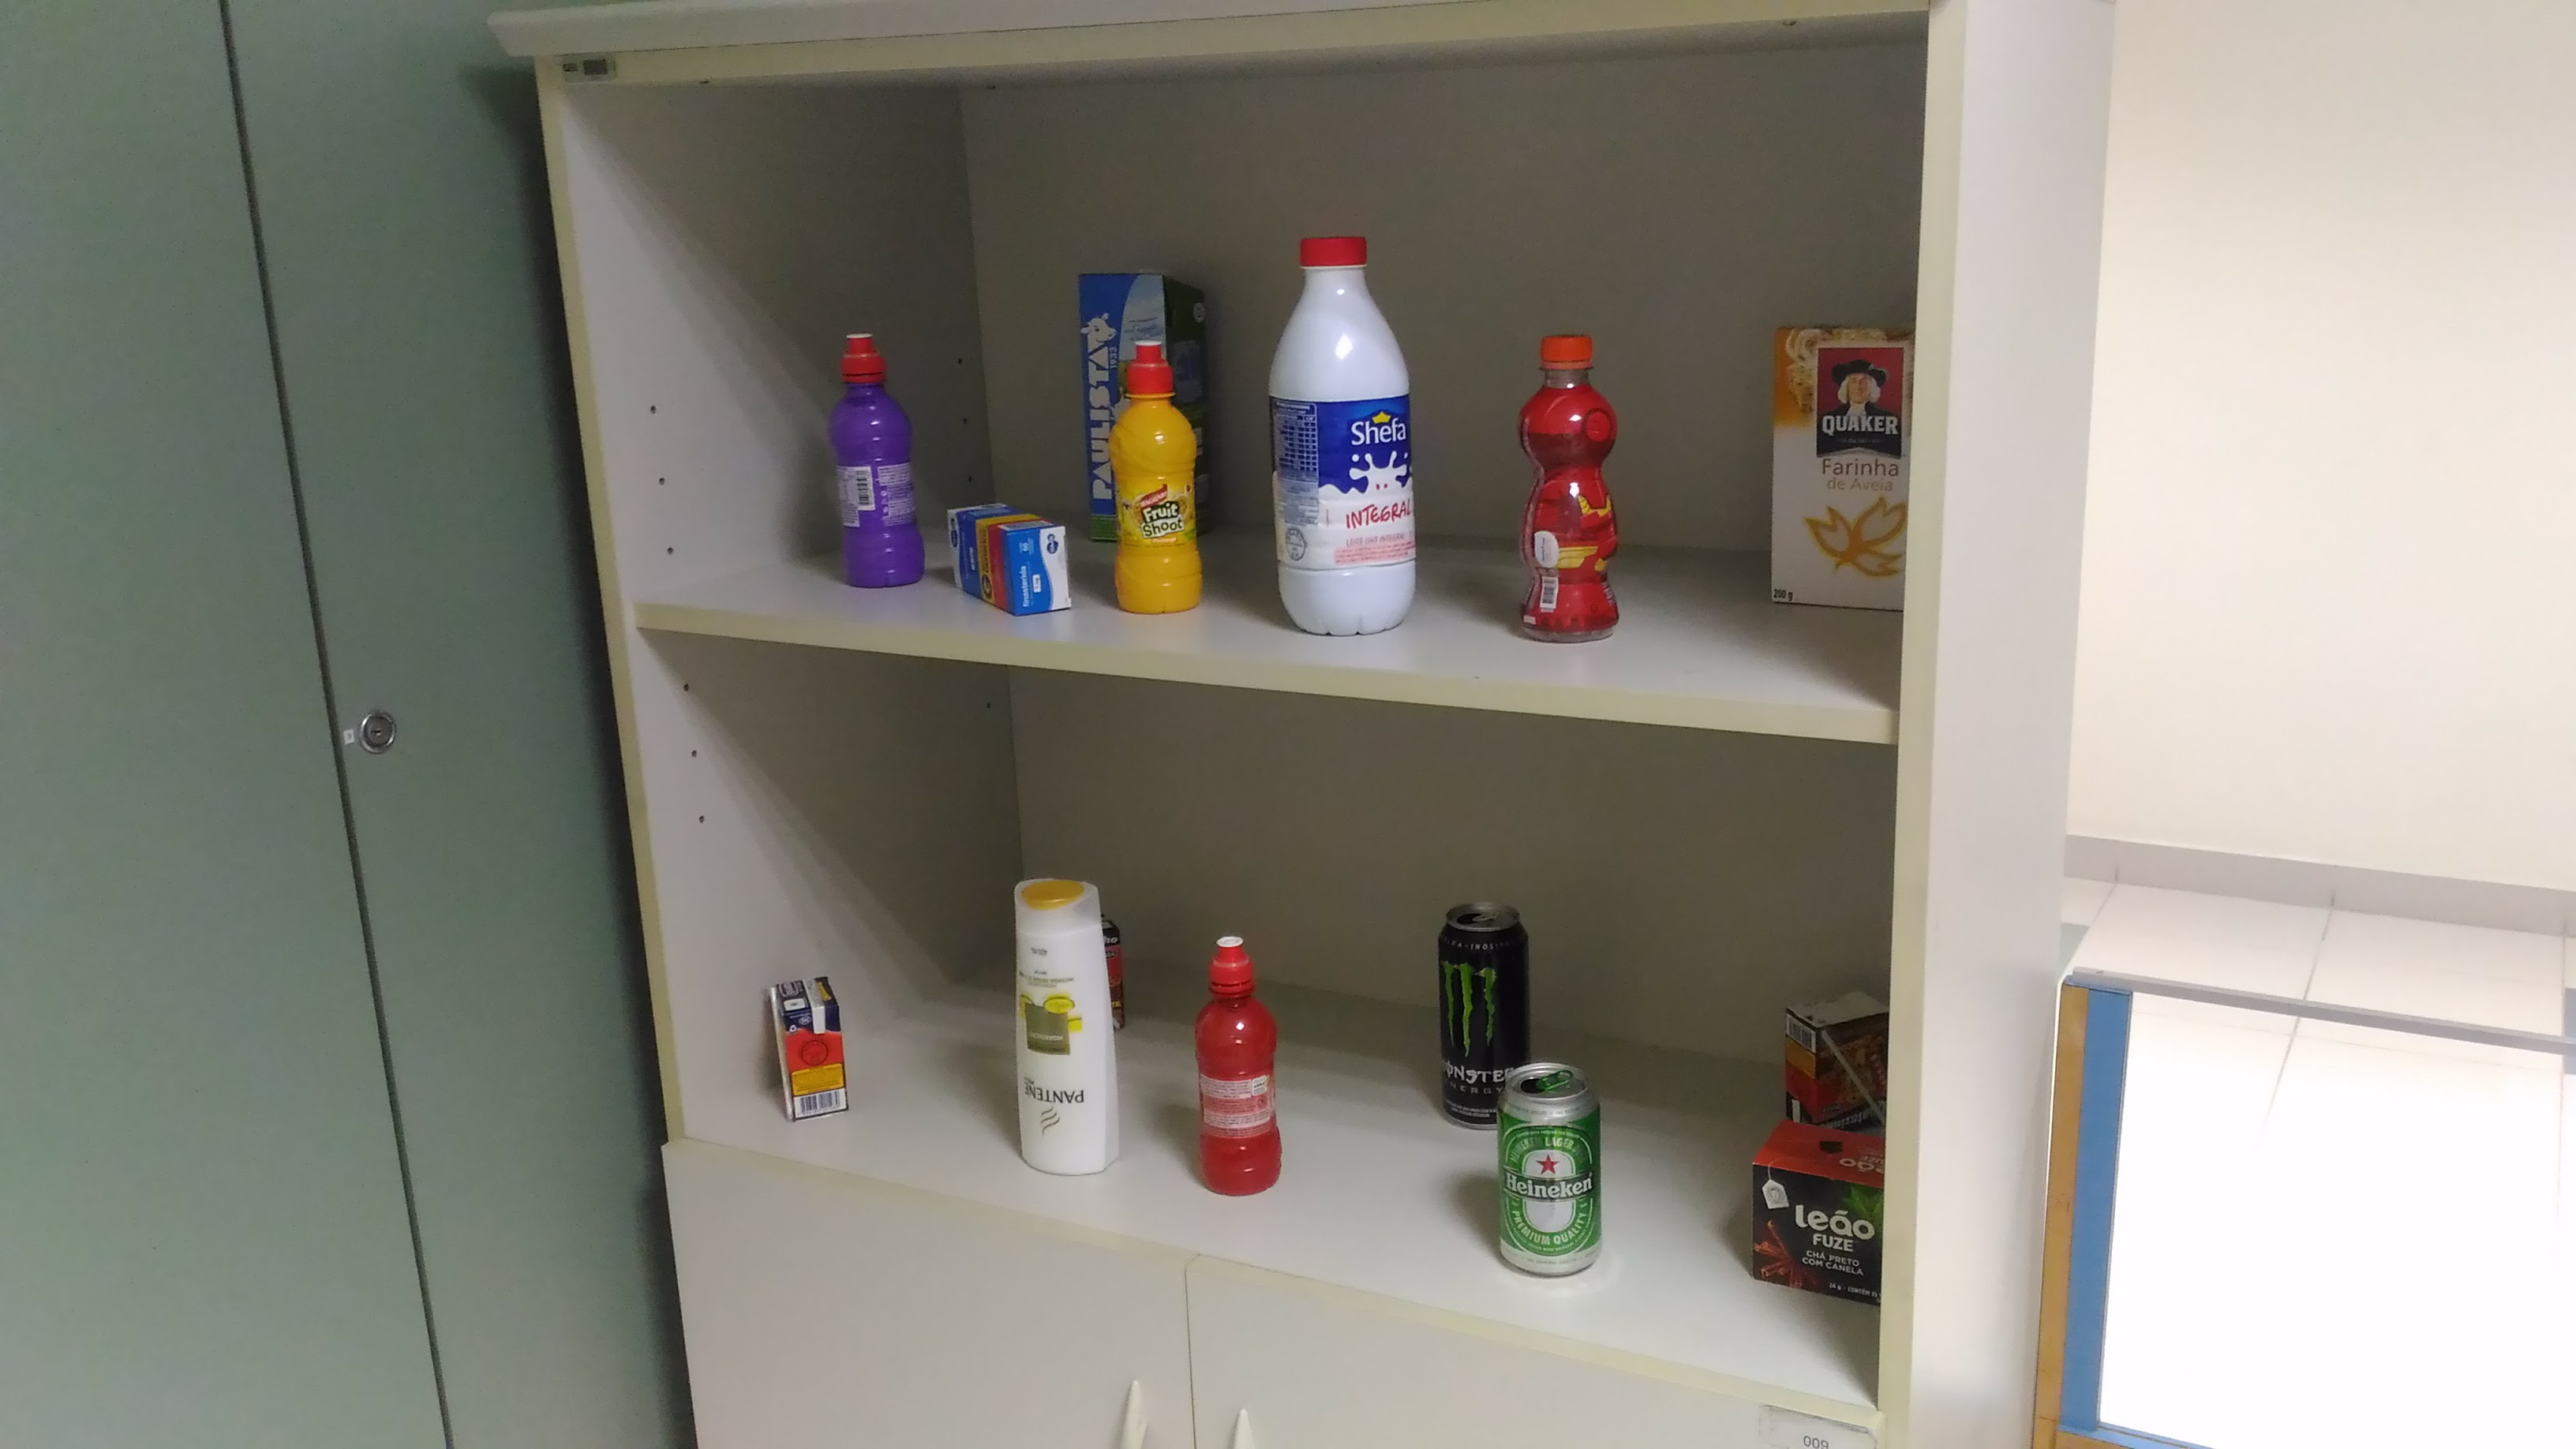cereal: (1758, 317, 1922, 627)
chocolate_milk: (1776, 985, 1889, 1123), (766, 971, 854, 1126)
heineken: (1491, 1053, 1609, 1286)
iron_man: (1507, 320, 1629, 655)
medicine: (938, 489, 1082, 624)
milk_bottle: (1257, 221, 1428, 638)
monster: (1426, 895, 1536, 1129)
purple_juice: (817, 317, 933, 593)
red_juice: (1189, 926, 1285, 1207)
shampoo: (1009, 870, 1130, 1182)
tea_box: (1742, 1123, 1885, 1318)
yellow_juice: (1102, 339, 1206, 621)
